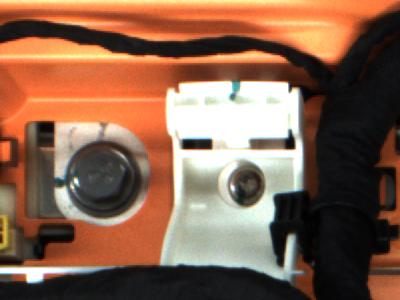nut_b: (48, 135, 157, 224)
